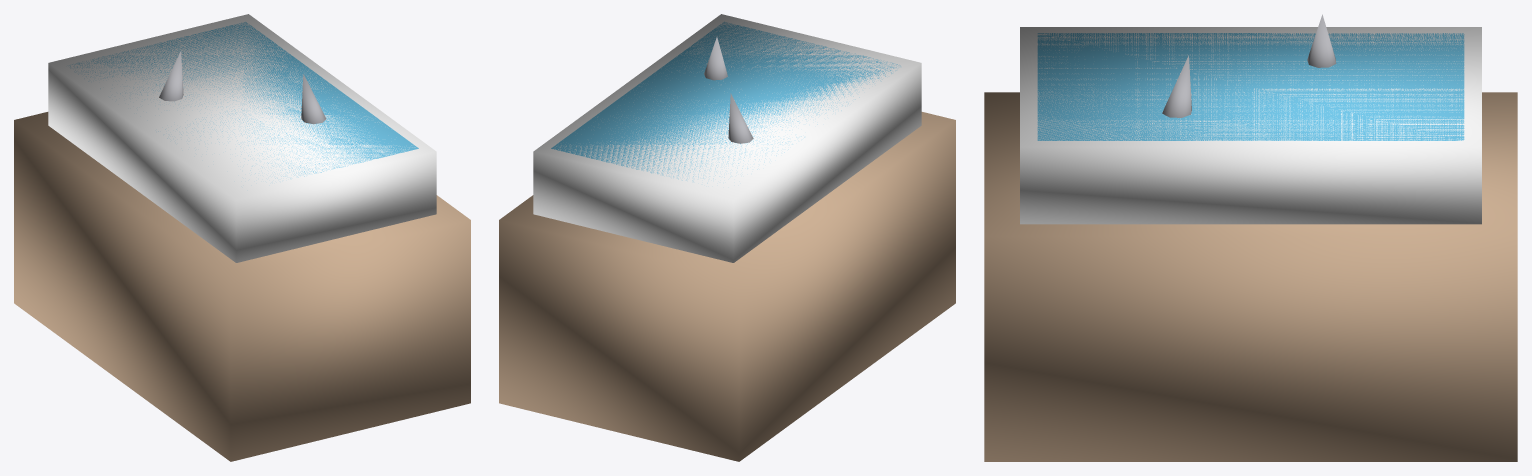
Rendered from seafood_stall.glb.
3 views of the same model, side by side, from view 1: azimuth 30°, elevation 25°; view 2: azimuth 150°, elevation 25°; view 3: azimuth 270°, elevation 25° (orthographic). The views are drawn at different scales.
Visible parts, largest first — view 1: stand, ice_box, ice_plane, fish2, fish1; view 2: stand, ice_box, ice_plane, fish1, fish2; view 3: stand, ice_box, ice_plane, fish2, fish1.
Part boxes in pixels (x1,y1,x2,y2): stand: (14, 112, 470, 461); ice_box: (48, 14, 436, 262); ice_plane: (69, 22, 418, 178); fish2: (301, 74, 326, 124); fish1: (159, 50, 183, 101); stand: (499, 112, 955, 461); ice_box: (533, 14, 921, 262); ice_plane: (551, 21, 900, 183); fish1: (728, 93, 753, 143); fish2: (704, 37, 727, 80); stand: (984, 92, 1517, 461); ice_box: (1020, 27, 1481, 224); ice_plane: (1037, 33, 1464, 140); fish2: (1162, 55, 1191, 117); fish1: (1307, 14, 1336, 67).
Size of the model in its own units: 0.48 by 0.5533 by 0.75.
